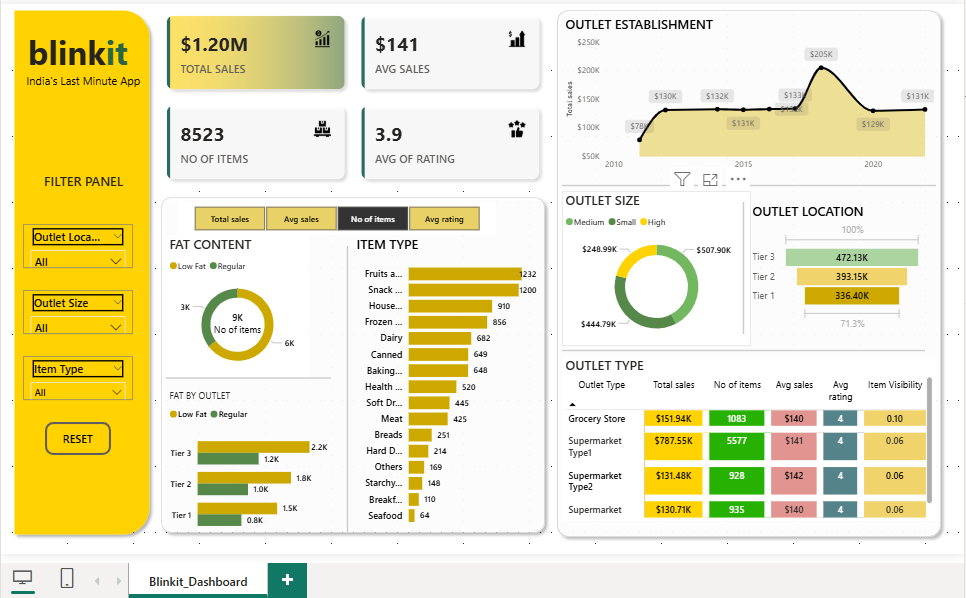

The dashboard page shown, as its layout file describes it:
{"tool":"powerbi","page":{"name":"Blinkit_Dashboard","canvas":[1400,800],"ordinal":0},"visuals":[{"type":"shape","box":[10,0,215,781],"z":0},{"type":"textbox","box":[32,32,160,96],"z":1000},{"type":"textbox","box":[32,96,176,128],"z":2000},{"type":"cardVisual","fields":{"Data":["BlinkIT Grocery Data.Total sales","BlinkIT Grocery Data.Avg sales","BlinkIT Grocery Data.No of items","BlinkIT Grocery Data.Avg of rating"]},"box":[224,0,576,272],"z":3000},{"type":"shape","box":[224,272,576,506],"z":4000},{"type":"donutChart","title":"FAT CONTENT","fields":{"Y":["BlinkIT Grocery Data.No of items"],"Category":["BlinkIT Grocery Data.Item Fat Content"]},"box":[240,336,208,208],"z":5000},{"type":"slicer","fields":{"Values":["Metrics.Metrics"]},"box":[256,288,464,48],"z":6000},{"type":"cardVisual","fields":{"Data":["BlinkIT Grocery Data.No of items"]},"box":[288,416,112,96],"z":7000},{"type":"clusteredBarChart","title":"FAT BY OUTLET","fields":{"Y":["BlinkIT Grocery Data.No of items"],"Category":["BlinkIT Grocery Data.Outlet Location Type"],"Series":["BlinkIT Grocery Data.Item Fat Content"]},"box":[240,560,240,224],"z":8000},{"type":"shape","box":[240,528,240,32],"z":9000},{"type":"shape","box":[480,352,48,416],"z":10000},{"type":"barChart","title":"ITEM TYPE","fields":{"Y":["BlinkIT Grocery Data.No of items"],"Category":["BlinkIT Grocery Data.Item Type"]},"box":[512,336,272,432],"z":11000},{"type":"shape","box":[800,0,576,784],"z":12000},{"type":"lineChart","title":"OUTLET ESTABLISHMENT","fields":{"Category":["BlinkIT Grocery Data.Outlet Establishment Year"],"Y":["BlinkIT Grocery Data.Total sales"]},"box":[816,16,546,235],"z":13000},{"type":"shape","box":[816,240,544,48],"z":14000},{"type":"donutChart","title":"OUTLET SIZE","fields":{"Y":["BlinkIT Grocery Data.Total sales"],"Category":["BlinkIT Grocery Data.Outlet Size"]},"box":[816,272,275,225],"z":15000},{"type":"shape","box":[1072,288,16,192],"z":16000},{"type":"funnel","title":"OUTLET LOCATION","fields":{"Y":["Sum(BlinkIT Grocery Data.Sales)"],"Category":["BlinkIT Grocery Data.Outlet Location Type"]},"box":[1088,288,256,192],"z":17000},{"type":"shape","box":[816,480,528,48],"z":18000},{"type":"pivotTable","title":"OUTLET TYPE","fields":{"Rows":["BlinkIT Grocery Data.Outlet Type"],"Values":["BlinkIT Grocery Data.Total sales","BlinkIT Grocery Data.No of items","BlinkIT Grocery Data.Avg sales","BlinkIT Grocery Data.Avg rating","Avg(BlinkIT Grocery Data.Item Visibility)"]},"box":[816,512,544,240],"z":19000},{"type":"slicer","fields":{"Values":["BlinkIT Grocery Data.Outlet Location Type"]},"box":[32,320,160,64],"z":20000},{"type":"slicer","fields":{"Values":["BlinkIT Grocery Data.Outlet Size"]},"box":[32,416,160,64],"z":21000},{"type":"slicer","fields":{"Values":["BlinkIT Grocery Data.Item Type"]},"box":[32,512,160,64],"z":22000},{"type":"textbox","box":[48,240,144,64],"z":23000},{"type":"actionButton","box":[64,608,96,48],"z":24000}]}

Visuals, with their boxes on the page's 1400x800 design canvas (x1, y1, x2, y2). These are canvas units, not pixel positions in the 966x598 screenshot, which may show the page scaled, cropped or inside an application window:
shape: BBox(10, 0, 225, 781)
textbox: BBox(32, 32, 192, 128)
textbox: BBox(32, 96, 208, 224)
cardVisual - BlinkIT Grocery Data.Total sales x BlinkIT Grocery Data.Avg sales: BBox(224, 0, 800, 272)
shape: BBox(224, 272, 800, 778)
"FAT CONTENT" donutChart: BBox(240, 336, 448, 544)
slicer - Metrics.Metrics: BBox(256, 288, 720, 336)
cardVisual - BlinkIT Grocery Data.No of items: BBox(288, 416, 400, 512)
"FAT BY OUTLET" clusteredBarChart: BBox(240, 560, 480, 784)
shape: BBox(240, 528, 480, 560)
shape: BBox(480, 352, 528, 768)
"ITEM TYPE" barChart: BBox(512, 336, 784, 768)
shape: BBox(800, 0, 1376, 784)
"OUTLET ESTABLISHMENT" lineChart: BBox(816, 16, 1362, 251)
shape: BBox(816, 240, 1360, 288)
"OUTLET SIZE" donutChart: BBox(816, 272, 1091, 497)
shape: BBox(1072, 288, 1088, 480)
"OUTLET LOCATION" funnel: BBox(1088, 288, 1344, 480)
shape: BBox(816, 480, 1344, 528)
"OUTLET TYPE" pivotTable: BBox(816, 512, 1360, 752)
slicer - BlinkIT Grocery Data.Outlet Location Type: BBox(32, 320, 192, 384)
slicer - BlinkIT Grocery Data.Outlet Size: BBox(32, 416, 192, 480)
slicer - BlinkIT Grocery Data.Item Type: BBox(32, 512, 192, 576)
textbox: BBox(48, 240, 192, 304)
actionButton: BBox(64, 608, 160, 656)
